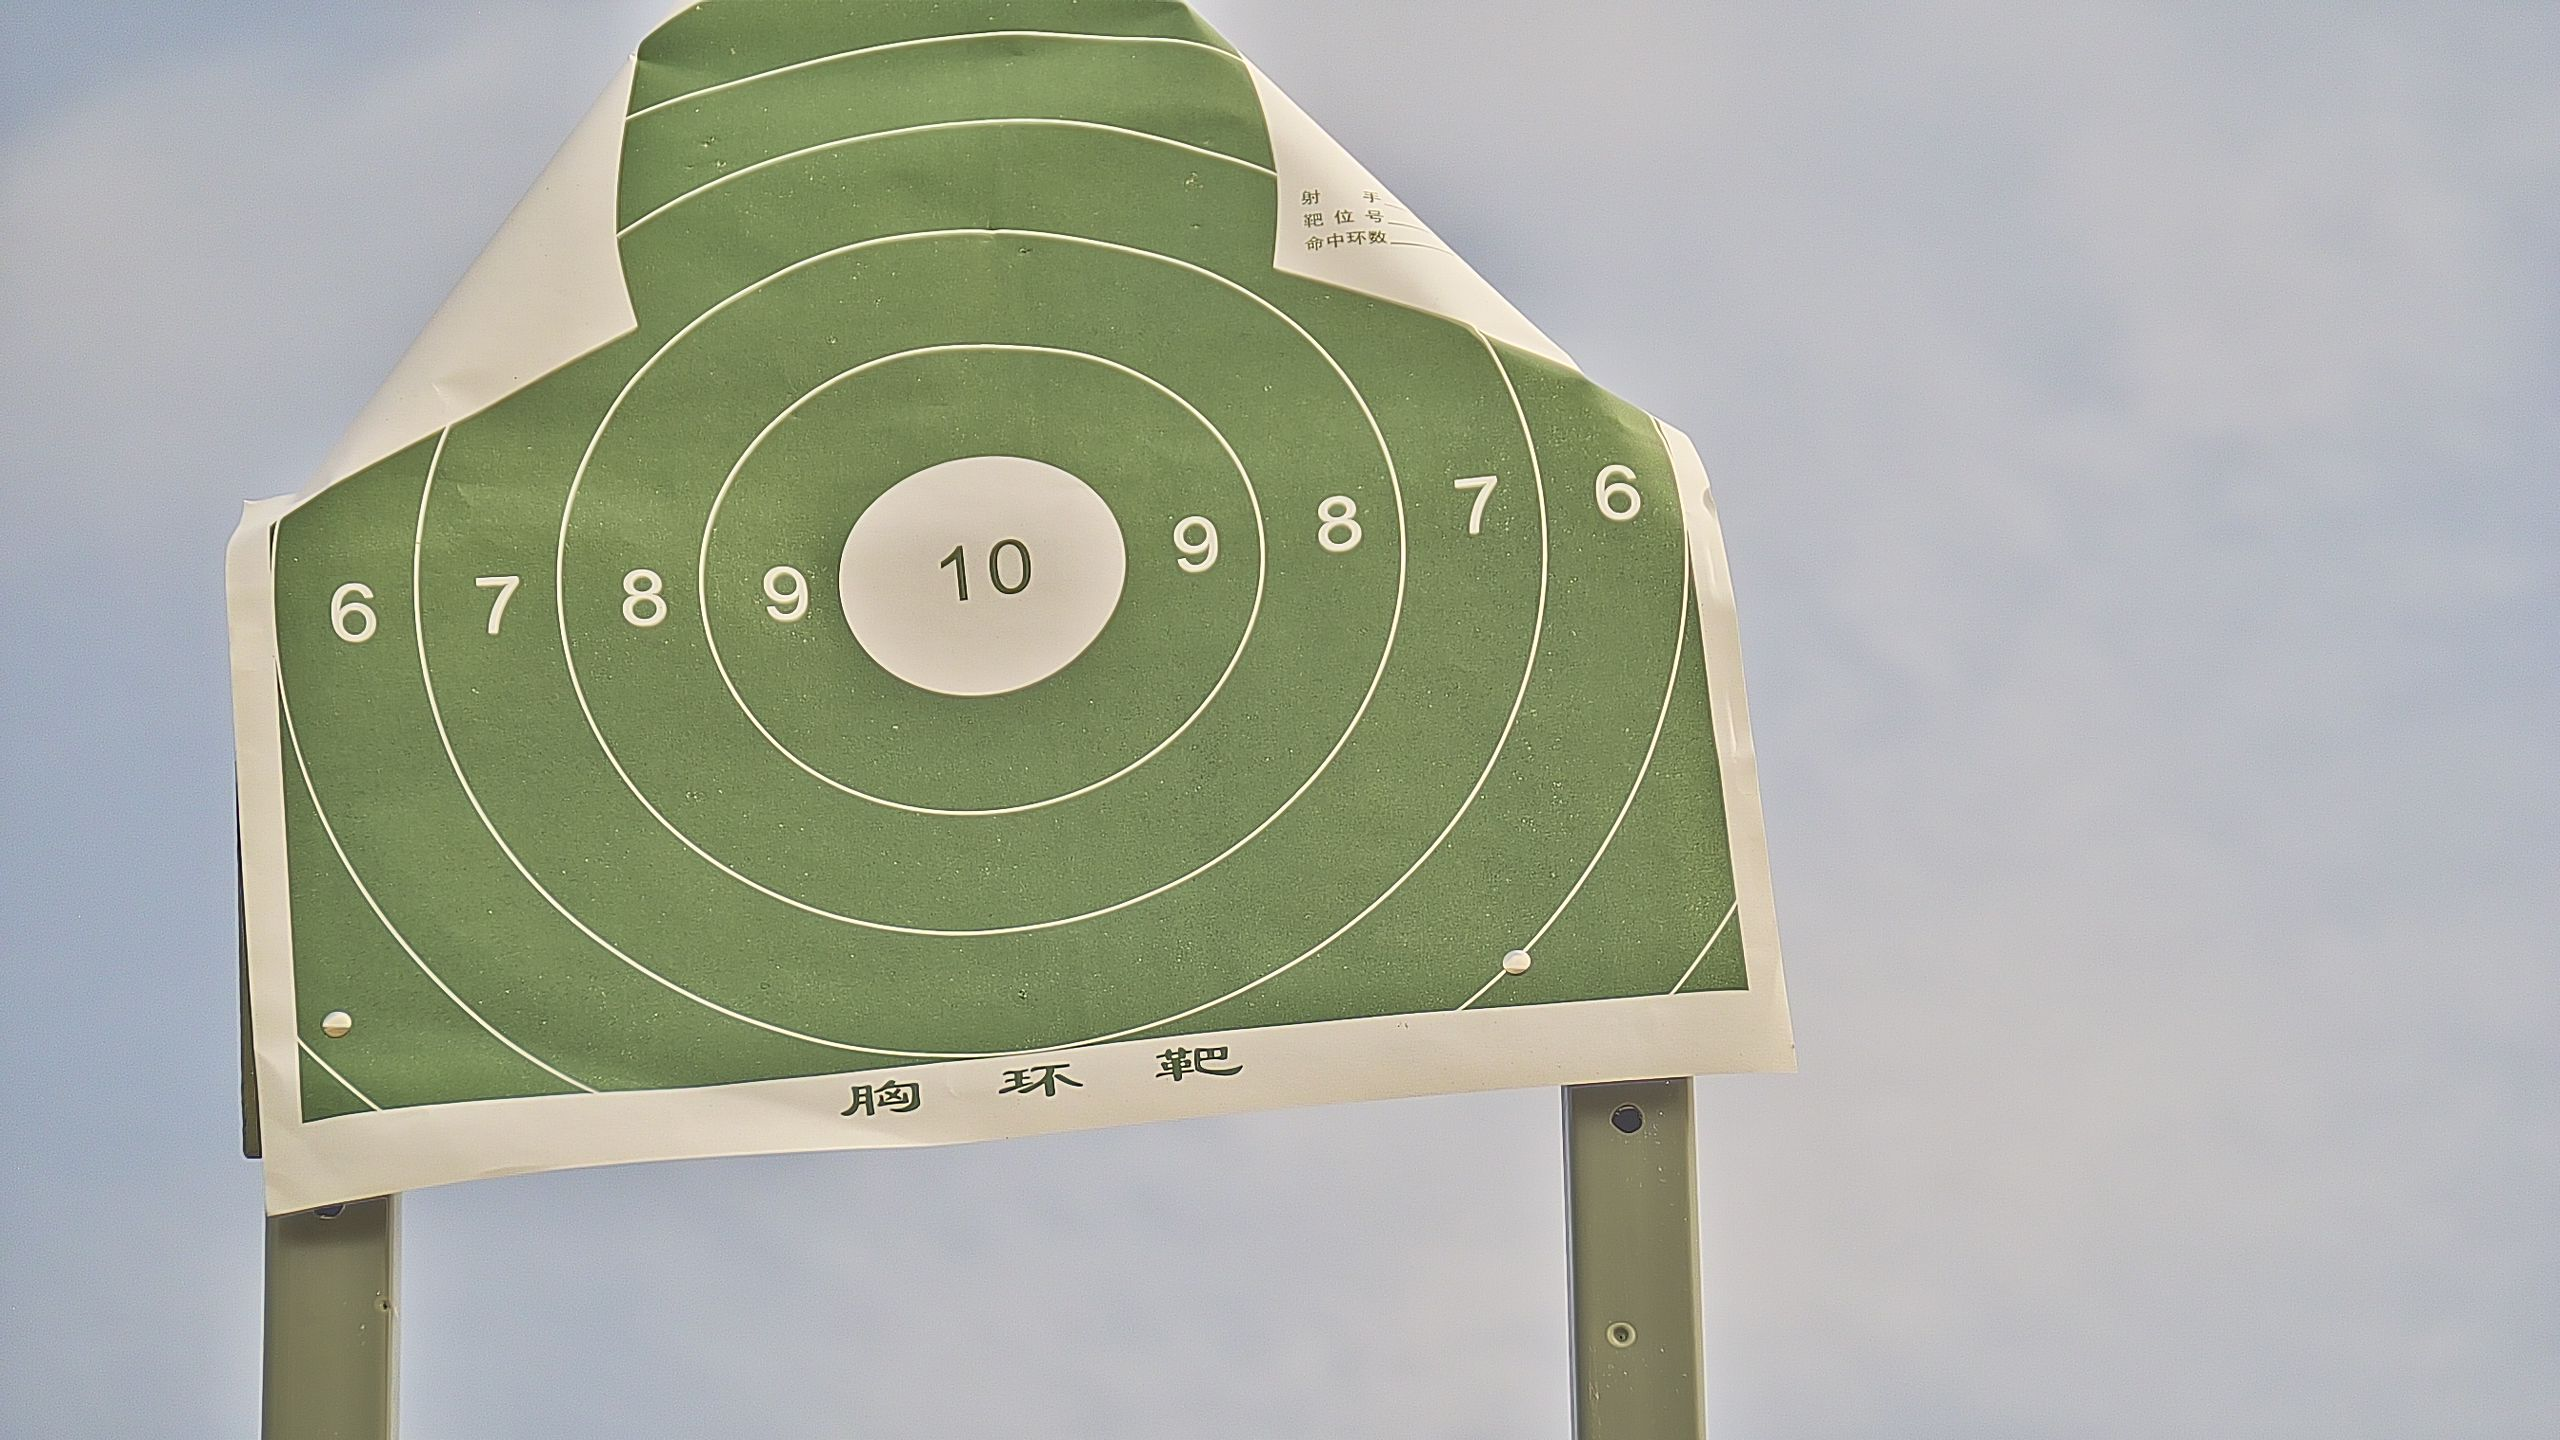kernel: (972, 571, 981, 577)
target: (267, 11, 1758, 1145)
ten: (837, 455, 1125, 696)
